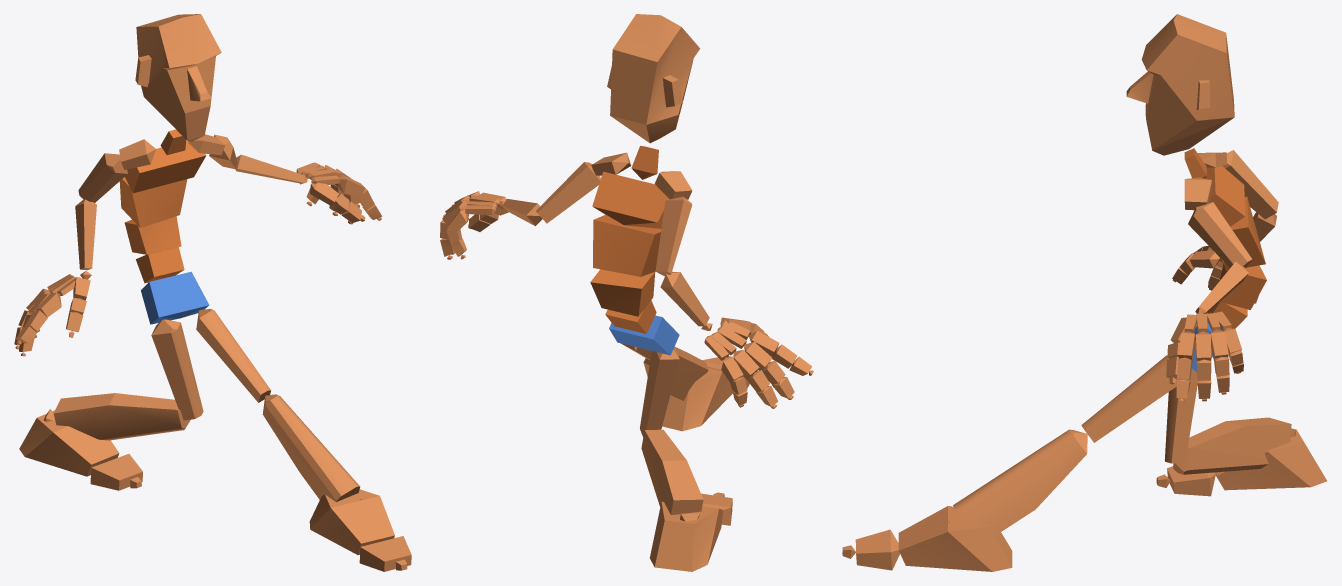
3 views of the same model, side by side, from view 1: azimuth 30°, elevation 25°; view 2: azimuth 150°, elevation 25°; view 3: azimuth 270°, elevation 25° (orthographic). The views are drawn at different scales.
Parts seen in each view (by area): view 1: BOPED_Head, BOPED_R_leg, BOPED_L_leg, BOPED_R_foot01, BOPED_R_foot, BOPED_R_legup, Bone01, BOPED_L_legup, Bone04, Bone05, Bone03, BOPED_R_arm_upper (+8 smaller); view 2: BOPED_Head, BOPED_R_foot, Bone04, BOPED_R_leg, Bone05, BOPED_R_foot01, Bone03, BOPED_R_legup, BOPED_R_arm_upper, BOPED_L_arm_upper, Bone01, BOPED_R_arm_fore (+7 smaller); view 3: BOPED_Head, BOPED_L_leg, BOPED_R_foot01, BOPED_R_leg, BOPED_R_foot, BOPED_L_legup, BOPED_L_arm_upper, BOPED_R_legup, Bone05, BOPED_R_arm_upper, BOPED_R_foot_toe04, Bone03 (+4 smaller).
Part boxes in pixels (x1,y1,x2,y2): BOPED_Head: (135, 14, 221, 141); BOPED_R_leg: (53, 393, 190, 440); BOPED_L_leg: (262, 394, 360, 502); BOPED_R_foot01: (309, 489, 394, 554); BOPED_R_foot: (19, 410, 119, 476); BOPED_R_legup: (151, 319, 203, 420); Bone01: (141, 271, 209, 324); BOPED_L_legup: (196, 309, 271, 402); Bone04: (119, 177, 187, 227); Bone05: (125, 140, 206, 193); Bone03: (124, 216, 181, 254); BOPED_R_arm_upper: (78, 153, 127, 202); BOPED_Head: (607, 14, 700, 143); BOPED_R_foot: (650, 501, 722, 571); Bone04: (593, 215, 661, 276); BOPED_R_leg: (641, 429, 703, 515); Bone05: (592, 171, 669, 228); BOPED_R_foot01: (662, 367, 732, 431); Bone03: (590, 269, 655, 316); BOPED_R_legup: (640, 346, 679, 437); BOPED_R_arm_upper: (655, 196, 692, 276); BOPED_L_arm_upper: (536, 162, 600, 223); Bone01: (609, 315, 679, 355); BOPED_R_arm_fore: (660, 271, 709, 326); BOPED_Head: (1126, 14, 1234, 155); BOPED_L_leg: (953, 429, 1087, 535); BOPED_R_foot01: (898, 506, 1012, 571); BOPED_R_leg: (1173, 417, 1291, 474); BOPED_R_foot: (1214, 429, 1326, 490); BOPED_L_legup: (1081, 355, 1181, 442); BOPED_L_arm_upper: (1188, 202, 1252, 267); BOPED_R_legup: (1164, 368, 1197, 463); Bone05: (1205, 166, 1245, 226); BOPED_R_arm_upper: (1222, 150, 1278, 219); BOPED_R_foot_toe04: (855, 529, 899, 570); Bone03: (1219, 263, 1266, 309).
Bounding box in the file's own units: 130 × 161 × 141.
